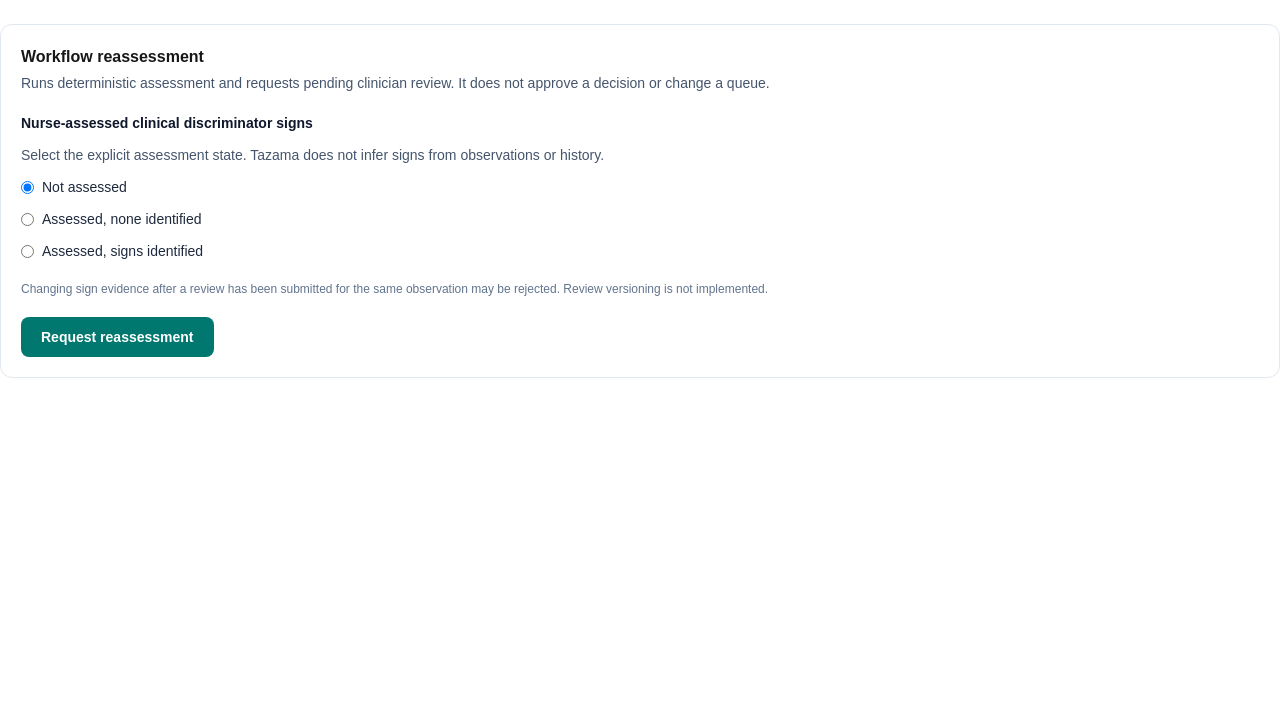
ReassessmentPanel › distinguishes priority tool unavailability
The image size is (1280, 707).
What coordinates should you click on to do the following:
click the button "Request reassessment"
I would click on:
 (117, 337)
Its box is [21,317,214,357].
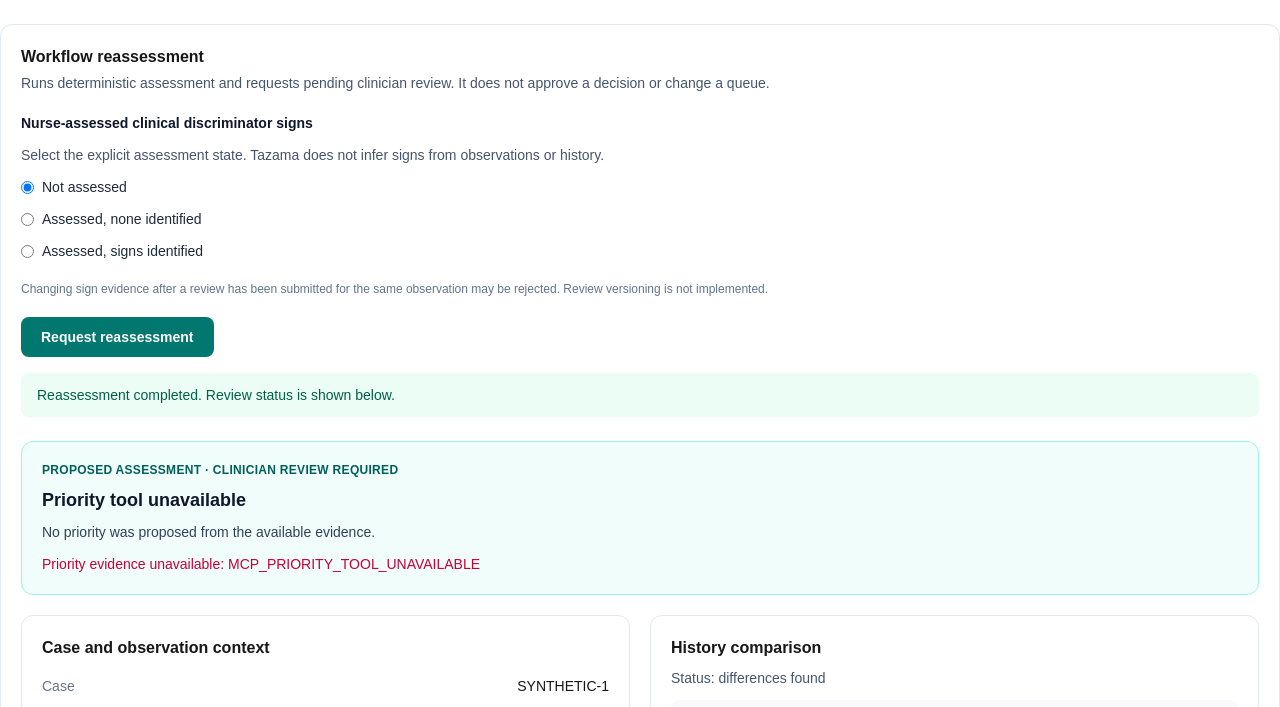
Expected: the heading "Priority tool unavailable" is shown, [42,490,246,510]
Expected: the message "Priority evidence unavailable: MCP_PRIORITY_TOOL_UNAVAILABLE" is shown, [42,556,480,572]
